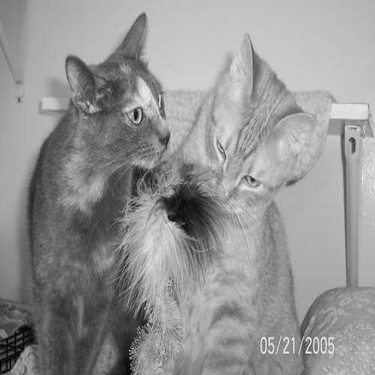cat: (130, 19, 324, 368), (9, 12, 170, 359)
